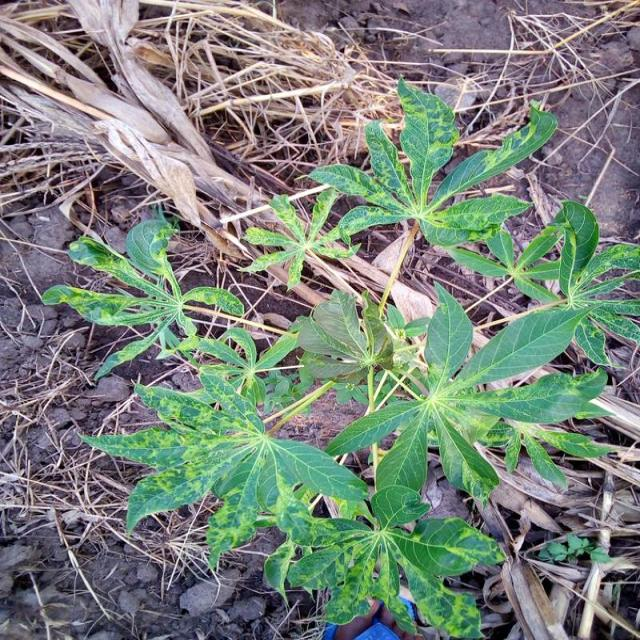cassava leaf: (42, 73, 637, 634)
